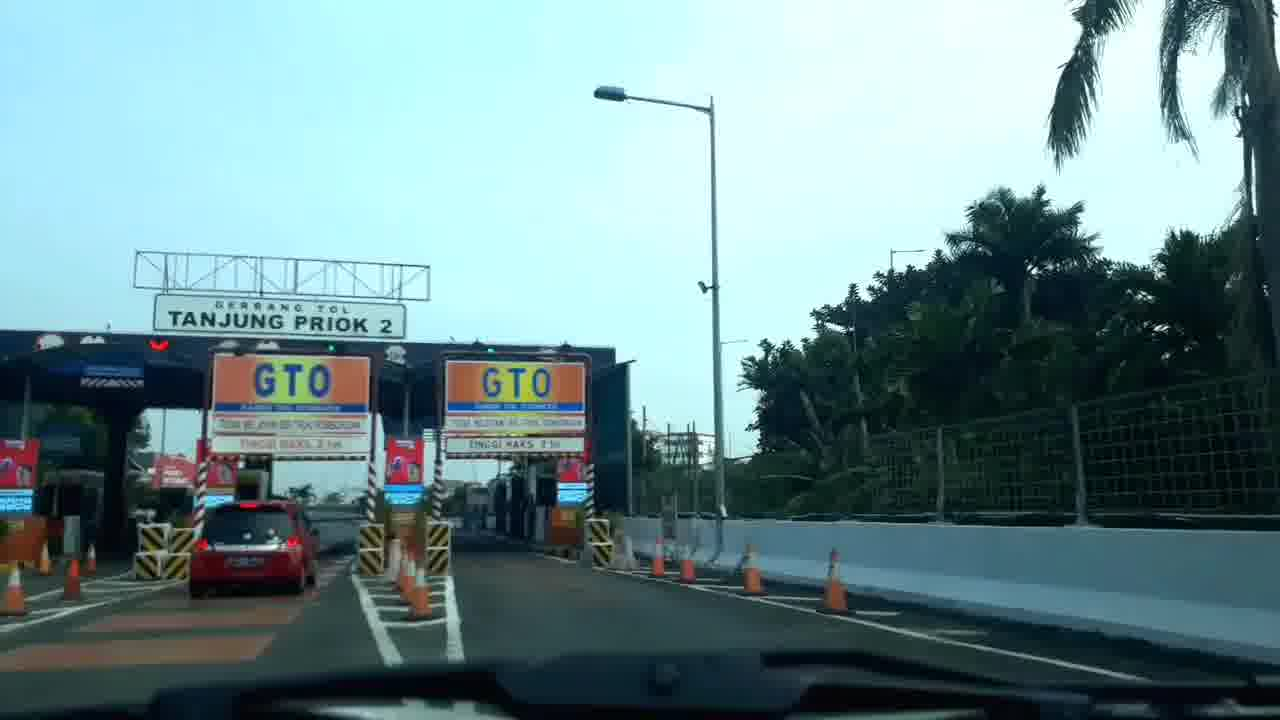plate_positive: (227, 556, 265, 568)
